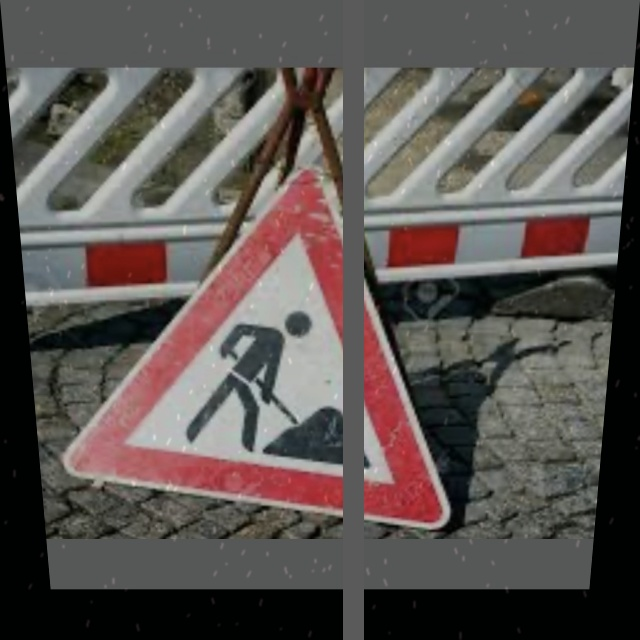Men_at_Work: (94, 180, 467, 529)
